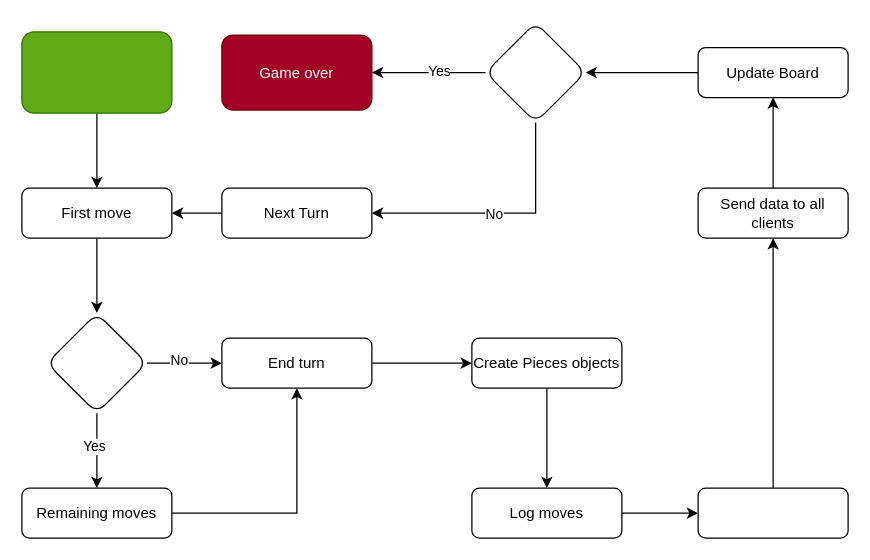
Some shapes in this 870 by 560 pixel diagram are drawn without their labels. Each missing label, with the centre of its shape:
Are there more moves?: (x=96, y=362)
Is there a winner?: (x=535, y=71)
Process moves: (x=772, y=512)
Start Game: (x=96, y=72)
